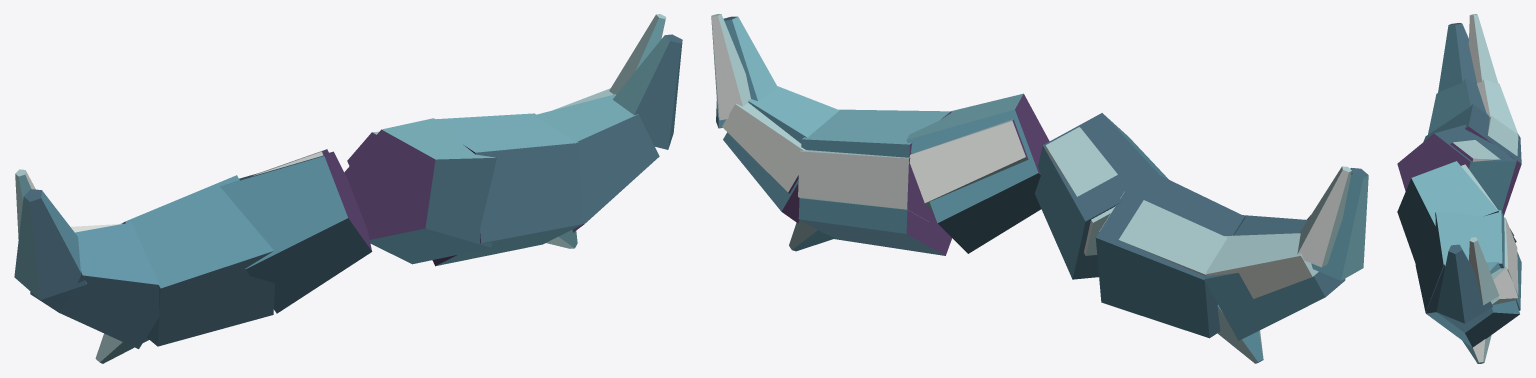
File: winter_mustache.glb
3 renders of one model, left to right at view 1: azimuth 30°, elevation 25°; view 2: azimuth 150°, elevation 25°; view 3: azimuth 270°, elevation 25°, orthographic. The views are drawn at different scales.
Visible parts, largest first — view 1: head; view 2: head; view 3: head.
Boxes of the visible parts, x1,y1,x2,y2 form: head: (14, 14, 682, 363); head: (711, 14, 1368, 363); head: (1397, 14, 1521, 363).
Size of the model in its own units: 7.41 by 2.34 by 1.69.
